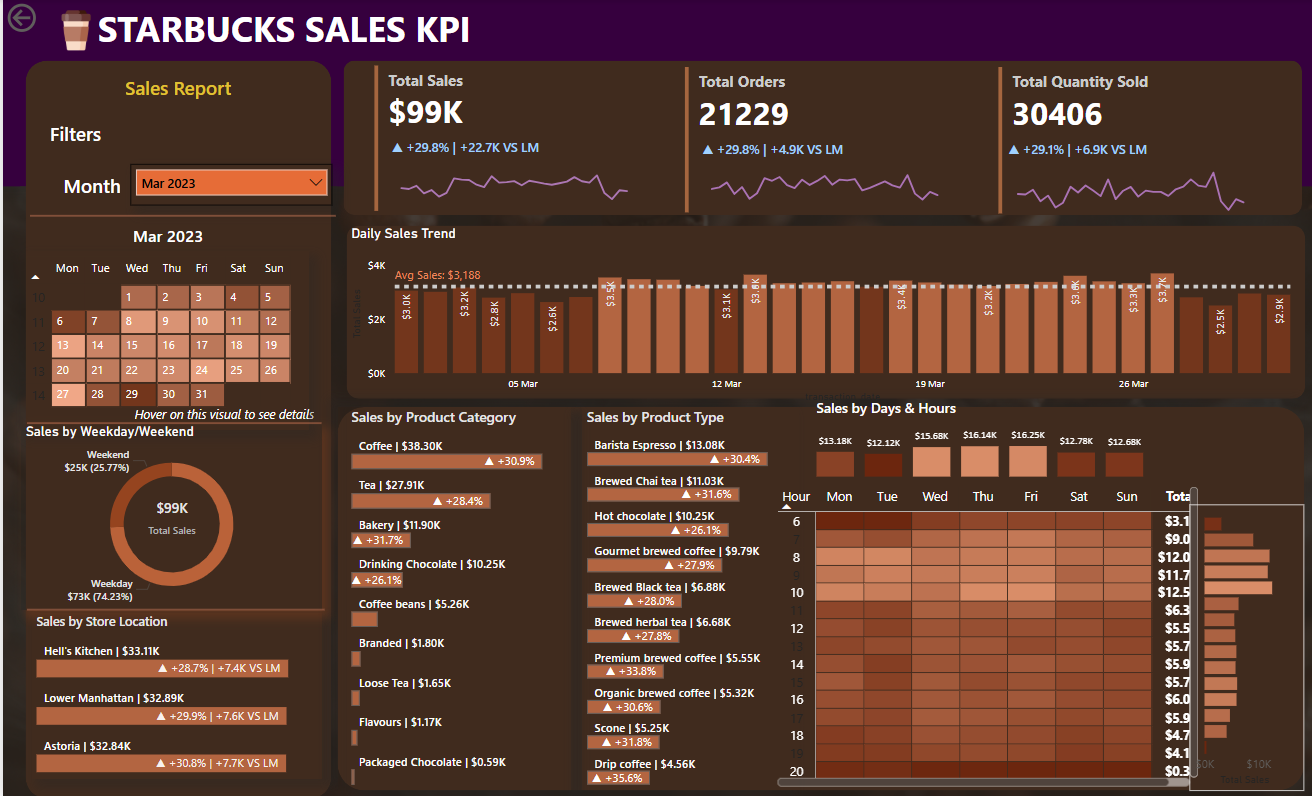

The page's visual inventory and layout, read from the dashboard file:
{"tool":"powerbi","page":{"name":"Page 1","canvas":[1400,850],"ordinal":0},"visuals":[{"type":"cardVisual","fields":{"Data":["Transactions.Foot Note"]},"box":[122.2,408,234.3,50],"z":0,"group":"g4"},{"type":"shape","box":[365.5,451.9,1019,378.8],"z":0},{"type":"shape","box":[0,0,1399.5,199.5],"z":1000},{"type":"shape","box":[23.9,65.4,325.5,785.1],"z":2000},{"type":"shape","box":[362.2,65.4,1019.7,164.4],"z":3000},{"type":"textbox","box":[95.3,0,434.2,66.5],"z":4000},{"type":"cardVisual","fields":{"Data":["Transactions.Total Sales"]},"box":[379,65.5,299.8,165.4],"z":4000,"group":"g1"},{"type":"cardVisual","fields":{"Data":["Transactions.Total Orders"]},"box":[710.4,66.5,299.8,165.4],"z":4000,"group":"g2"},{"type":"cardVisual","fields":{"Data":["Transactions.Total Quantity Sold"]},"box":[1043.4,66.5,299.1,166.1],"z":4000,"group":"g3"},{"type":"slicer","fields":{"Values":["Date Table.Month Year"]},"box":[135.1,175,214.9,44.3],"z":5000},{"type":"lineChart","fields":{"Y":["Transactions.Total Sales"],"Category":["Date Table.Date.Variation.Date Hierarchy.Year","Date Table.Date.Variation.Date Hierarchy.Quarter","Date Table.Date.Variation.Date Hierarchy.Month","Date Table.Date.Variation.Date Hierarchy.Day"]},"box":[408.3,148.2,270.5,81],"z":5001,"group":"g1"},{"type":"lineChart","fields":{"Category":["Date Table.Date.Variation.Date Hierarchy.Year","Date Table.Date.Variation.Date Hierarchy.Quarter","Date Table.Date.Variation.Date Hierarchy.Month","Date Table.Date.Variation.Date Hierarchy.Day"],"Y":["Transactions.Total Orders"]},"box":[739.7,149.2,270.5,81],"z":5001,"group":"g2"},{"type":"lineChart","fields":{"Category":["Date Table.Date.Variation.Date Hierarchy.Year","Date Table.Date.Variation.Date Hierarchy.Quarter","Date Table.Date.Variation.Date Hierarchy.Month","Date Table.Date.Variation.Date Hierarchy.Day"],"Y":["Transactions.Total Quantity Sold"]},"box":[1064.8,149.7,270.3,82],"z":5001,"group":"g3"},{"type":"actionButton","box":[0,0,100,40],"z":6000},{"type":"group","id":"g1","title":"Group 1","box":[379,65.5,299.8,165.4],"z":7000},{"type":"group","id":"g2","title":"Group 1","box":[710.4,66.5,301.3,163.9],"z":8000},{"type":"group","id":"g3","title":"Group 1","box":[1043.4,66.5,299.1,166.1],"z":9000},{"type":"pivotTable","fields":{"Rows":["Date Table.Week Number"],"Columns":["Date Table.Day Name"],"Values":["Min(Date Table.Day Number)"]},"box":[19,268.5,305.7,190.5],"z":9000,"group":"g4"},{"type":"group","id":"g4","title":"Group 3","box":[19,199.8,337.7,260.1],"z":10000},{"type":"cardVisual","fields":{"Data":["Min(Date Table.Month Year)"]},"box":[120.9,199.8,119.6,95.3],"z":10000,"group":"g4"},{"type":"shape","box":[25.8,444.5,313.5,12.1],"z":11000},{"type":"shape","box":[845.9,599.5,325.6,24.1],"z":12000},{"type":"donutChart","title":"Sales by Weekday/Weekend","fields":{"Category":["Date Table.WEEKDAY/WEEKEND"],"Y":["Transactions.Total Sales"]},"box":[19,451.4,320.4,198.1],"z":13000},{"type":"card","fields":{"Values":["Transactions.Total Sales"]},"box":[136.1,503,87.9,96.5],"z":14000},{"type":"shape","box":[25.8,646,317,6.9],"z":15000},{"type":"clusteredBarChart","title":"Sales by Store Location","fields":{"Category":["Transactions.store_location"],"Y":["Transactions.Place holder","Transactions.Total Sales"]},"box":[31,652.9,308.4,177.4],"z":16000},{"type":"shape","box":[365.2,241.2,1019.9,184.3],"z":17000},{"type":"columnChart","title":"Daily Sales Trend","fields":{"Category":["Transactions.transaction_date"],"Y":["Transactions.Total Sales"]},"box":[365.2,241.2,1013,192.9],"z":18000},{"type":"shape","box":[356.6,434.1,1028.5,408.3],"z":19000},{"type":"clusteredBarChart","title":"Sales by Product Category","fields":{"Y":["Transactions.Place holder","Transactions.Total Sales"],"Category":["Transactions.product_category"]},"box":[365.5,434.2,239.2,407.6],"z":20000},{"type":"shape","box":[29,218.5,325.6,24.1],"z":21000},{"type":"clusteredBarChart","title":"Sales by Product Type","fields":{"Y":["Transactions.Place holder","Transactions.Total Sales"],"Category":["Transactions.product_type"]},"box":[615.8,434.2,230.4,407.6],"z":23000},{"type":"pivotTable","fields":{"Rows":["Transactions.Hour"],"Columns":["Date Table.Day Name"],"Values":["Transactions.Total Sales"]},"box":[818.6,513.8,458,328.7],"z":24000},{"type":"barChart","fields":{"Category":["Transactions.Hour"],"Y":["Transactions.Total Sales"]},"box":[1262.8,537.5,122.3,304.9],"z":25000},{"type":"columnChart","title":"Sales by Days & Hours","fields":{"Category":["Date Table.Day Name"],"Y":["Transactions.Total Sales"]},"box":[860.1,424.5,359,89.4],"z":26000},{"type":"shape","box":[26.6,175,135.1,46.5],"z":26001},{"type":"shape","box":[33.2,66.5,305.7,53.2],"z":26002},{"type":"shape","box":[42.1,119.6,70.9,46.5],"z":26003},{"type":"image","box":[50.9,0,53.2,66.5],"z":26005}]}

Visuals, with their boxes in screenshot pixels (x1, y1, x2, y2), scaled from the page's 1400x850 canvas onto the 1312x796 screenshot:
cardVisual - Transactions.Foot Note: 115:382:334:429
shape: 343:423:1297:778
shape: 0:0:1311:187
shape: 22:61:327:795
shape: 339:61:1295:215
textbox: 89:0:496:62
cardVisual - Transactions.Total Sales: 355:61:636:216
cardVisual - Transactions.Total Orders: 666:62:947:217
cardVisual - Transactions.Total Quantity Sold: 978:62:1258:218
slicer - Date Table.Month Year: 127:164:328:205
lineChart - Transactions.Total Sales x Date Table.Date.Variation.Date Hierarchy.Year: 383:139:636:215
lineChart - Date Table.Date.Variation.Date Hierarchy.Year x Date Table.Date.Variation.Date Hierarchy.Quarter: 693:140:947:216
lineChart - Date Table.Date.Variation.Date Hierarchy.Year x Date Table.Date.Variation.Date Hierarchy.Quarter: 998:140:1251:217
actionButton: 0:0:94:37
"Group 1" group: 355:61:636:216
"Group 1" group: 666:62:948:216
"Group 1" group: 978:62:1258:218
pivotTable - Date Table.Week Number x Date Table.Day Name: 18:251:304:430
"Group 3" group: 18:187:334:431
cardVisual - Min(Date Table.Month Year): 113:187:225:276
shape: 24:416:318:428
shape: 793:561:1098:584
"Sales by Weekday/Weekend" donutChart: 18:423:318:608
card - Transactions.Total Sales: 128:471:210:561
shape: 24:605:321:611
"Sales by Store Location" clusteredBarChart: 29:611:318:778
shape: 342:226:1298:398
"Daily Sales Trend" columnChart: 342:226:1292:407
shape: 334:407:1298:789
"Sales by Product Category" clusteredBarChart: 343:407:567:788
shape: 27:205:332:227
"Sales by Product Type" clusteredBarChart: 577:407:793:788
pivotTable - Transactions.Hour x Date Table.Day Name: 767:481:1196:789
barChart - Transactions.Hour x Transactions.Total Sales: 1183:503:1298:789
"Sales by Days & Hours" columnChart: 806:398:1142:481
shape: 25:164:152:207
shape: 31:62:318:112
shape: 39:112:106:156
image: 48:0:98:62
